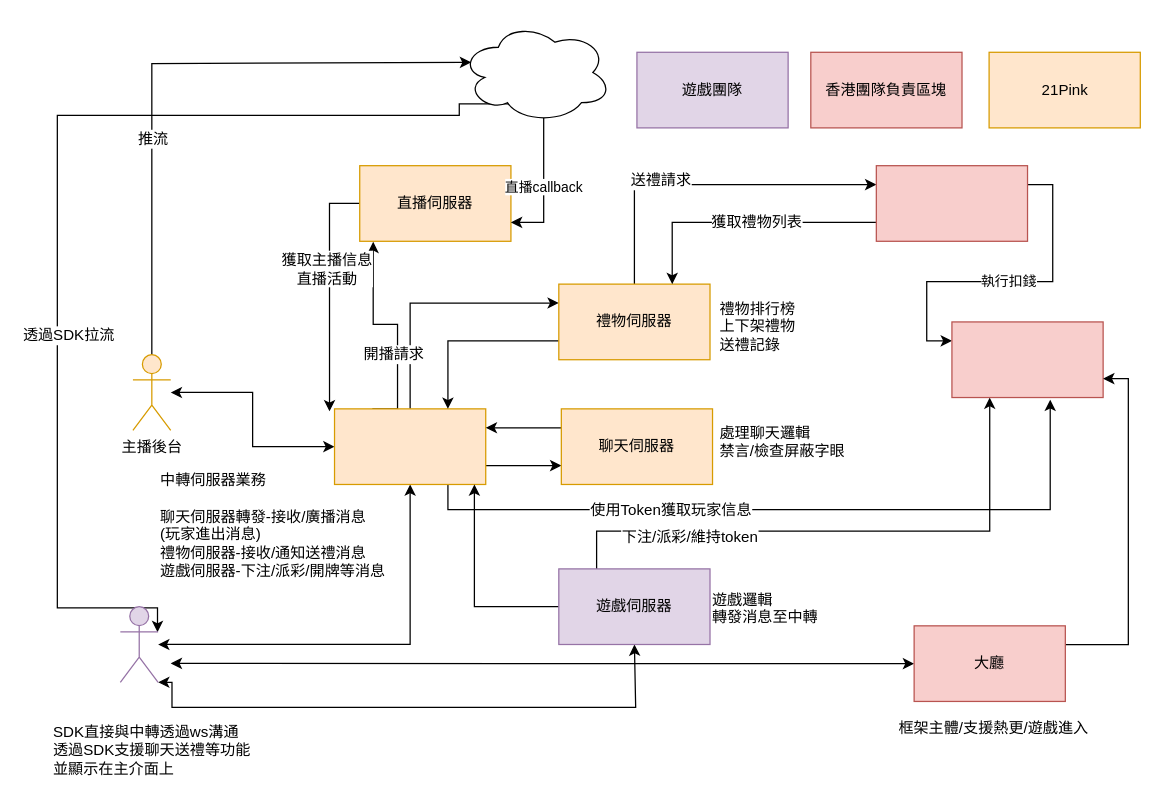
Image size: 1162x800. Some labels were removed from this diagram. The centre of each missing label's shape, as x and y in pixels:
"CDN" goes at pixel 535 72.
"Player" goes at pixel 138 643.
"Wallet" goes at pixel 1027 359.
"中轉伺服器" goes at pixel 409 446.
"送禮伺服器" goes at pixel 951 202.
